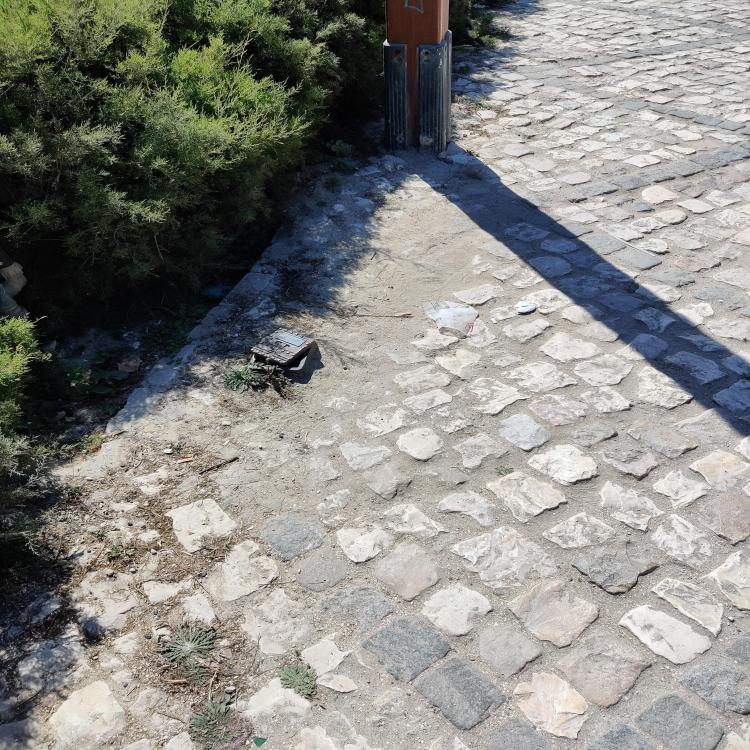Broken glass: (252, 736, 269, 748)
Cigarette: (178, 457, 192, 464), (395, 312, 411, 317)
Disposable plastic cup: (421, 300, 479, 336)
Unlabeled litter: (612, 236, 656, 256), (514, 301, 536, 313)
